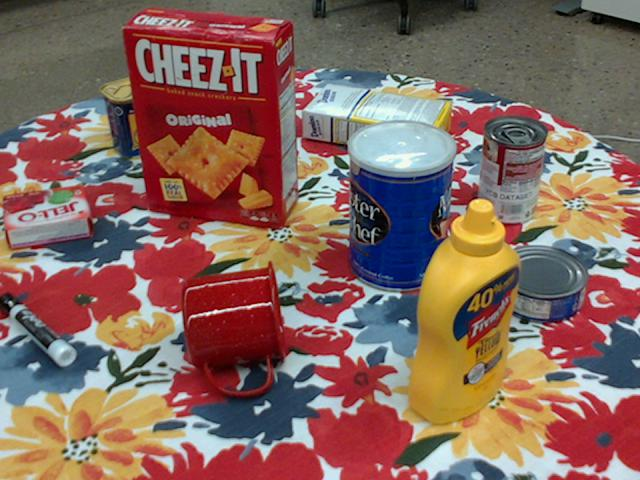cracker_box: (123, 7, 299, 223)
gelatin_box: (3, 184, 93, 250)
large_marker: (0, 291, 75, 365)
master_chef_can: (347, 120, 455, 293)
mug: (181, 261, 286, 396)
mustard_bottle: (408, 199, 518, 424)
potted_meat_can: (100, 67, 187, 157)
sugar_box: (301, 82, 452, 160)
tomato_soup_can: (477, 115, 546, 225)
tuna_fish_can: (494, 246, 586, 324)
